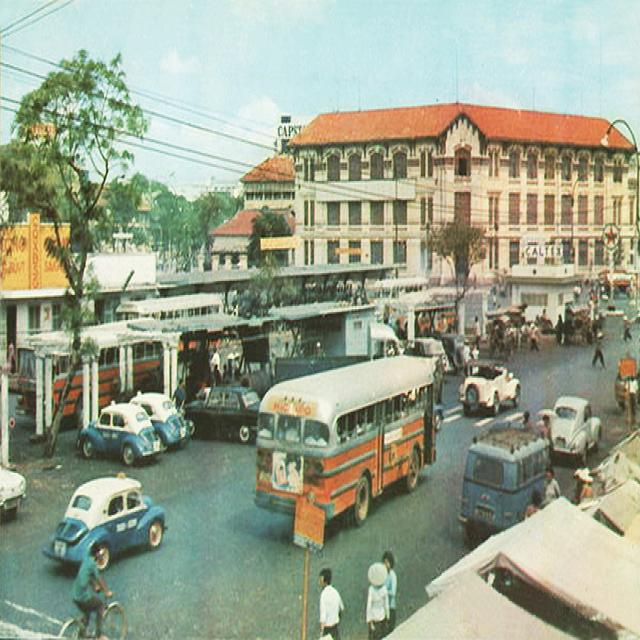Vehicle: (253, 350, 434, 521), (17, 335, 165, 426), (43, 473, 168, 571), (456, 426, 556, 546), (71, 401, 166, 465), (181, 384, 262, 444), (130, 391, 196, 448), (459, 358, 522, 417), (550, 395, 602, 466), (114, 292, 225, 321), (403, 337, 449, 374), (0, 465, 28, 523), (240, 372, 263, 397)
